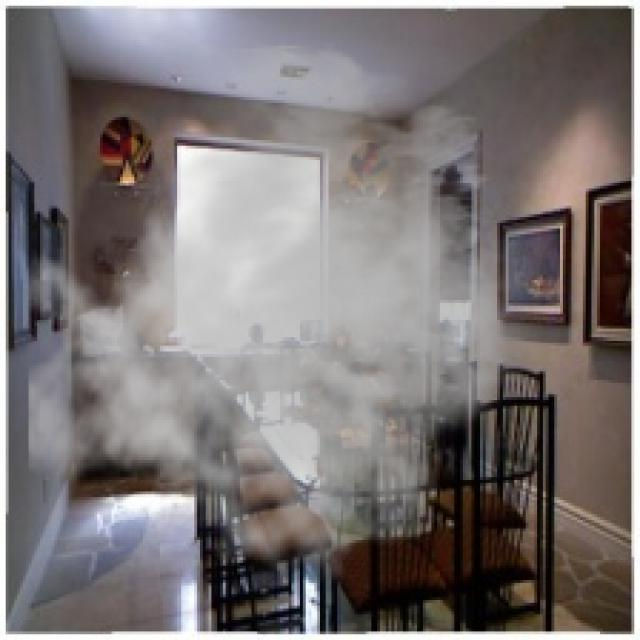Smoke: (29, 43, 558, 586)
